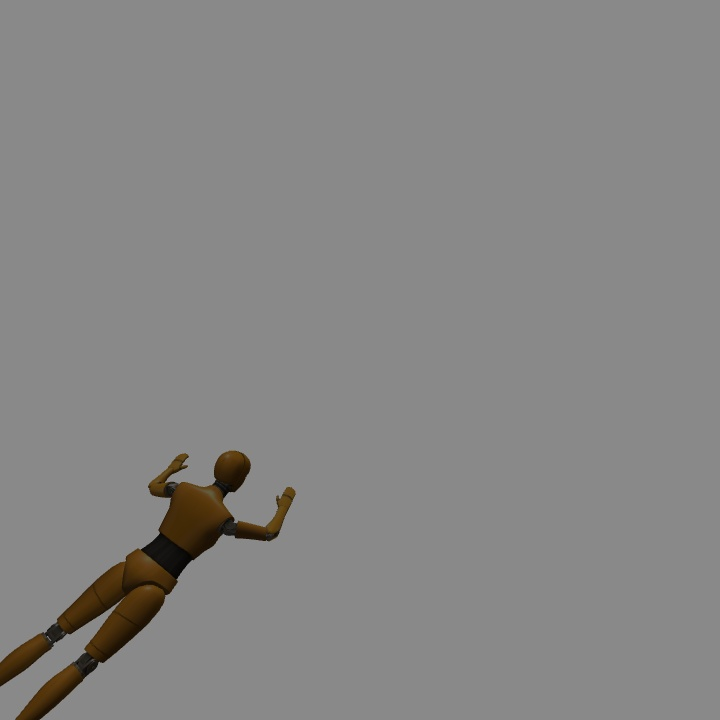victim: (3, 450, 295, 716)
